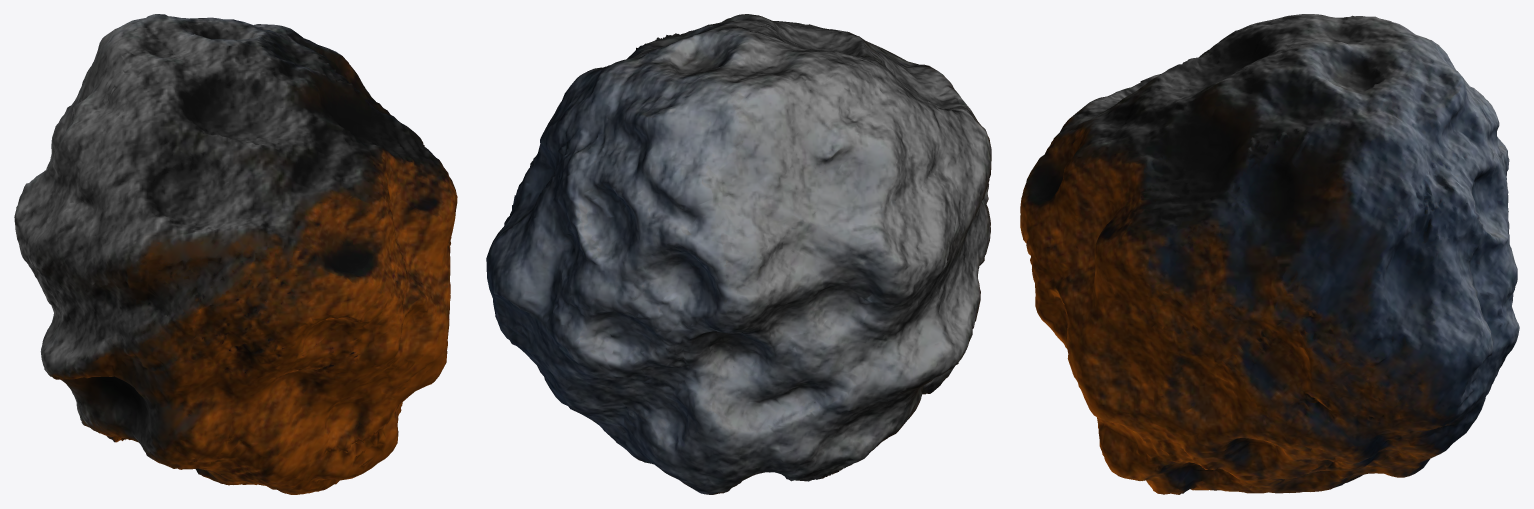
The model's file is asteroid.glb.
The picture shows the model from 3 angles, left to right: view 1: azimuth 30°, elevation 25°; view 2: azimuth 150°, elevation 25°; view 3: azimuth 270°, elevation 25°; orthographic projection. The views are drawn at different scales.
Visible parts, largest first — view 1: Object_2; view 2: Object_2; view 3: Object_2.
Boxes of the visible parts, left/top/right/bottom form: Object_2: left=14, top=14, right=457, bottom=494; Object_2: left=486, top=14, right=991, bottom=494; Object_2: left=1020, top=14, right=1519, bottom=494.
Bounding box in the file's own units: 536 × 543 × 568.
1 material, 1 textured.
